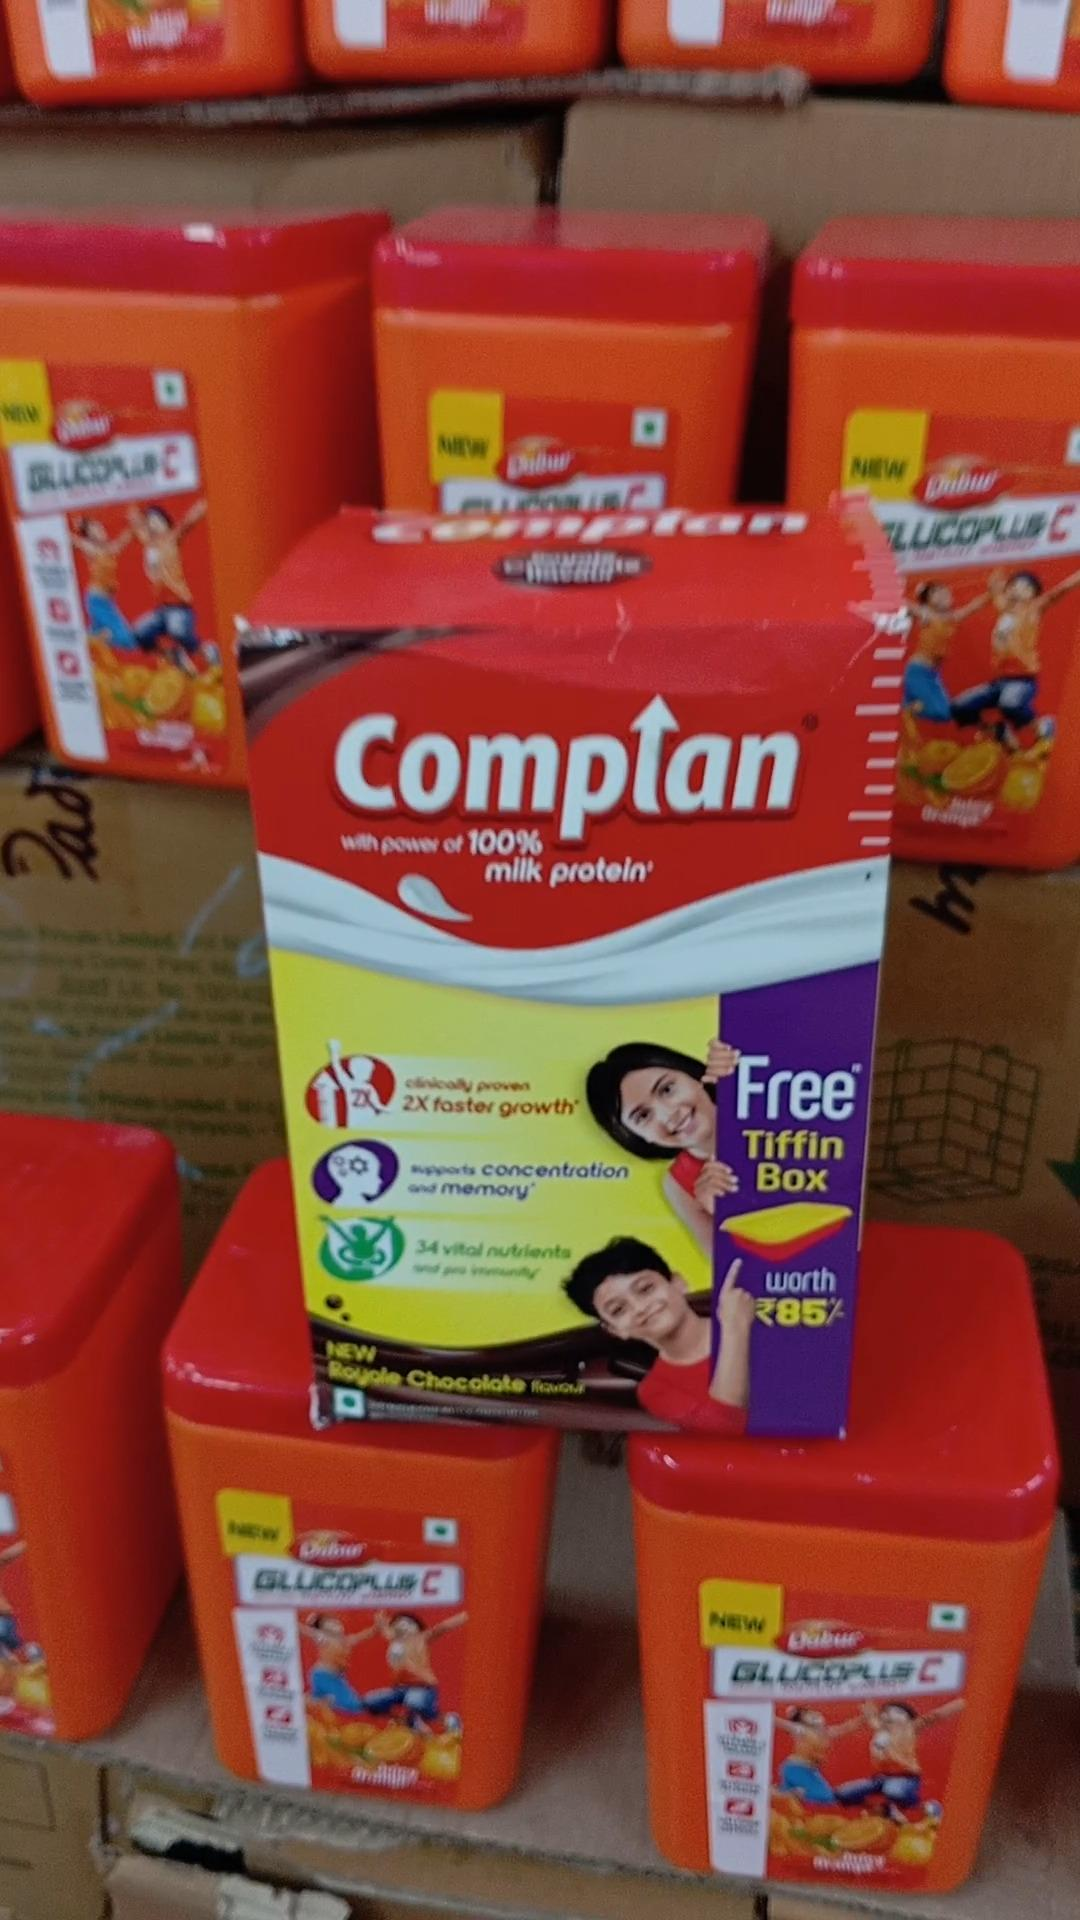COMPLAN_CHOCOLATE_500_GMS_PACK: (270, 605, 876, 1451)
